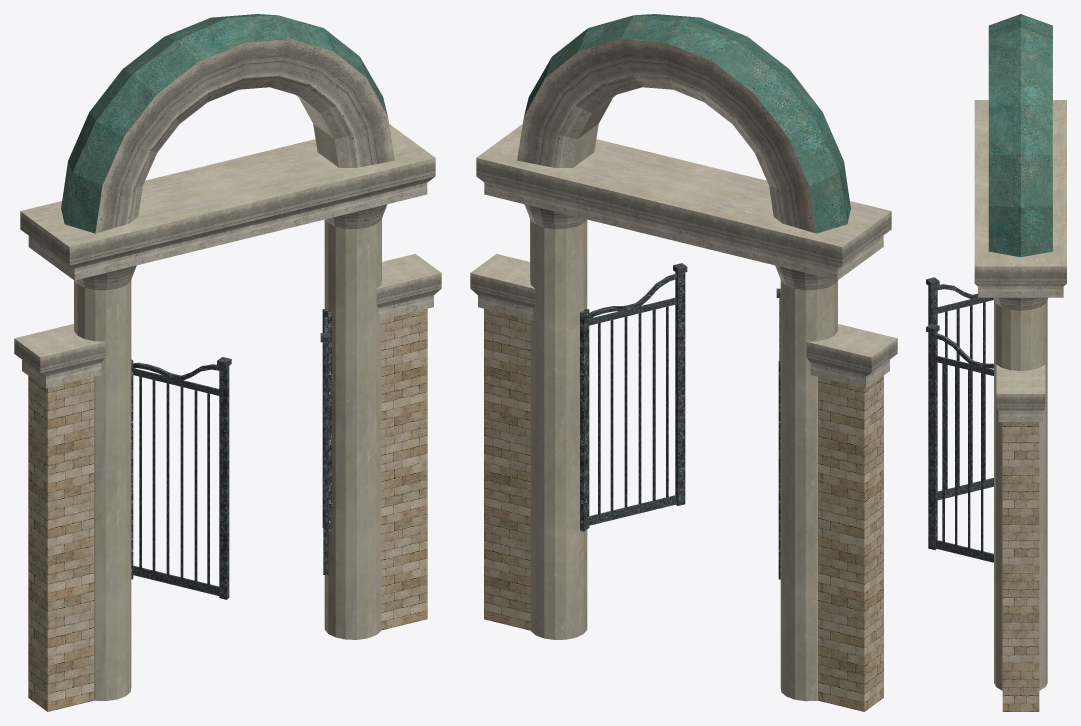
Rendered from thm_nboo_imprv_narrow_gate_s01_l0.fbx.
3 renders of one model, left to right at view 1: azimuth 30°, elevation 25°; view 2: azimuth 150°, elevation 25°; view 3: azimuth 270°, elevation 25°, orthographic. The views are drawn at different scales.
Parts seen in each view (by area): view 1: mesh_node; view 2: mesh_node; view 3: mesh_node.
Part boxes in pixels (<box>): mesh_node: <box>14,14,441,711</box>; mesh_node: <box>470,14,897,711</box>; mesh_node: <box>926,14,1066,711</box>.
Bounding box in the file's own units: 8.01 × 12.21 × 2.61.
